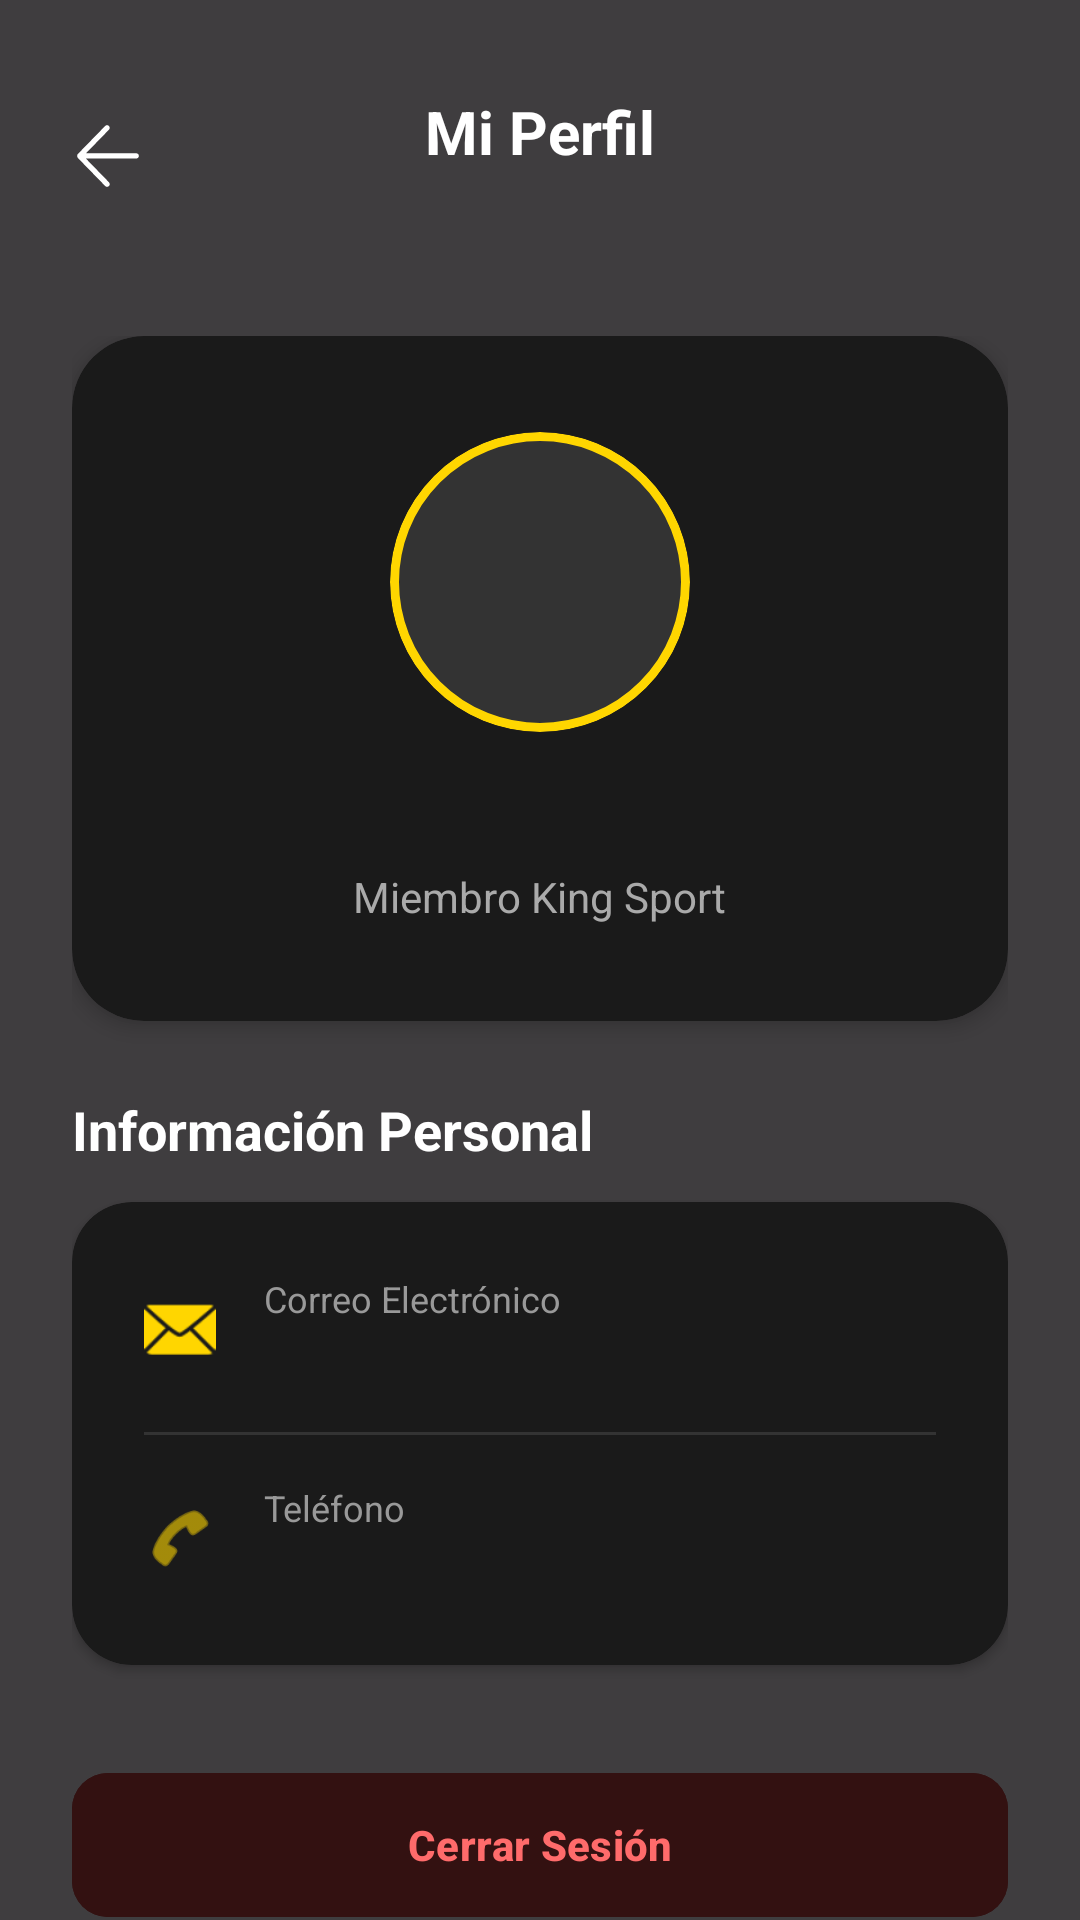

Where icons sit on this 1080w x 1920h app screen, as (x1, y1, x2, y2):
call: (152, 1510, 209, 1567)
email: (144, 1304, 216, 1355)
